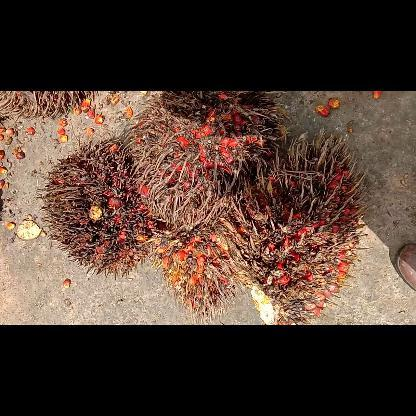Terlalu masak: (209, 124, 373, 324), (120, 91, 290, 231), (36, 134, 162, 282), (146, 218, 244, 324)
